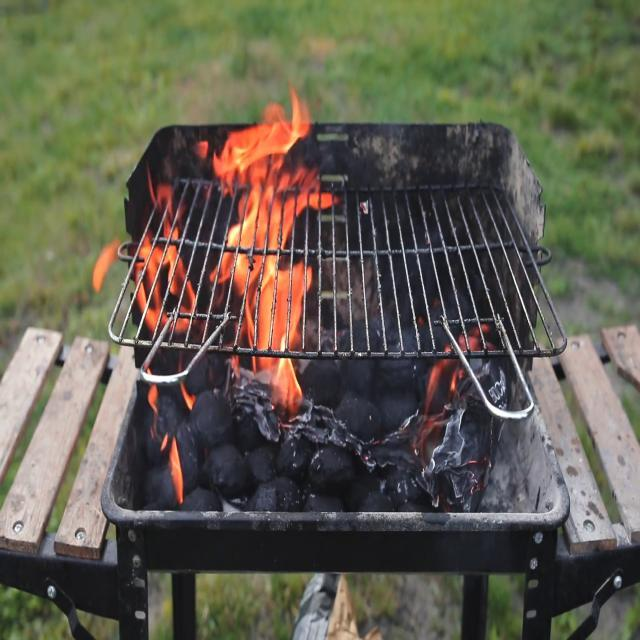Fire: (121, 62, 326, 456)
